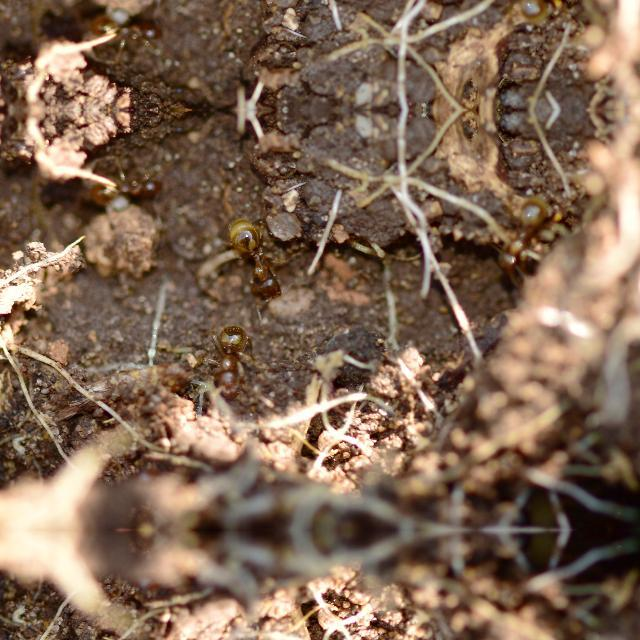Apheanogaster: (212, 210, 306, 308), (479, 192, 568, 278), (195, 317, 263, 401), (78, 168, 172, 210), (78, 8, 172, 50), (478, 0, 568, 26)
